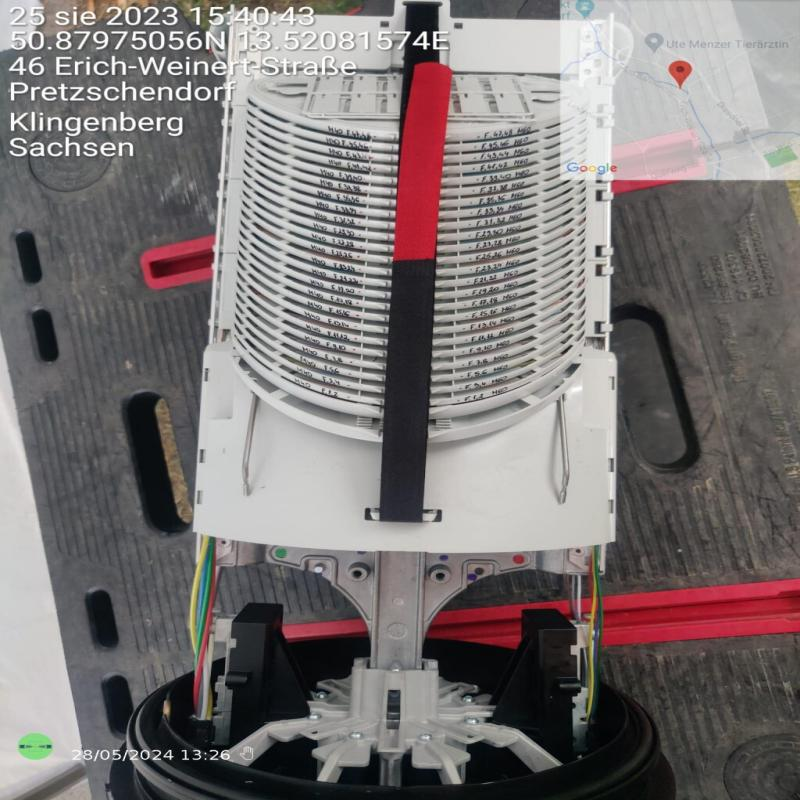NT-Muffen: (109, 9, 683, 800)
